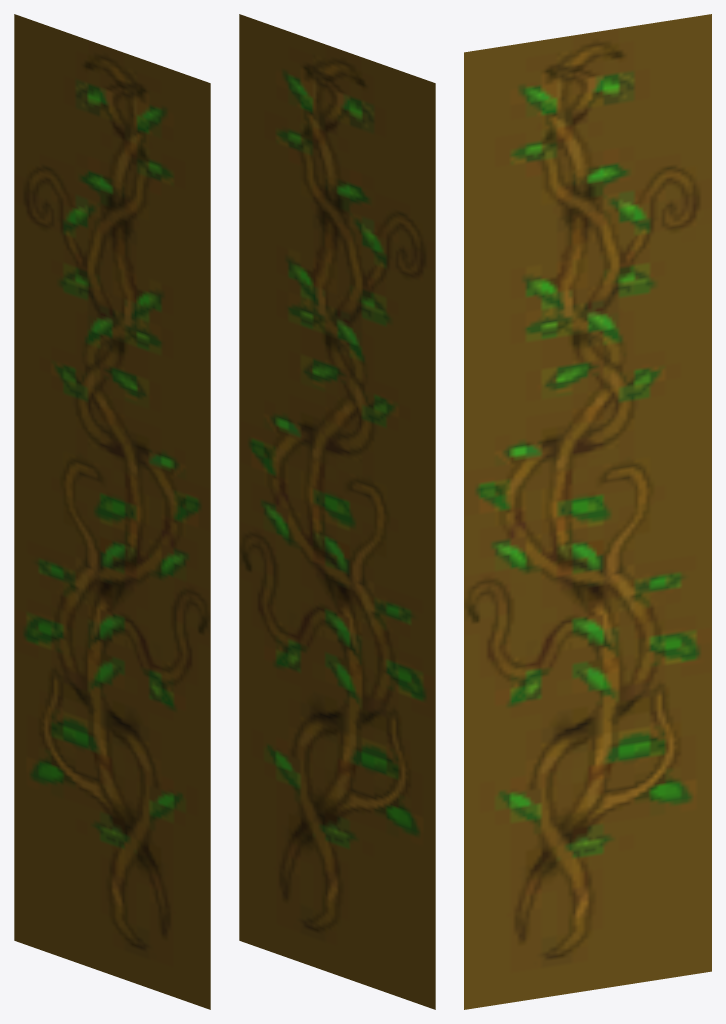
File: EKH_GROTTO_PS_GR_PLANE276.fbx
The picture shows the model from 3 angles, left to right: view 1: azimuth 30°, elevation 25°; view 2: azimuth 210°, elevation 25°; view 3: azimuth 270°, elevation 25°; orthographic projection. The views are drawn at different scales.
Visible parts, largest first — view 1: EKH_GROTTO_PS_GR_PLANE276; view 2: EKH_GROTTO_PS_GR_PLANE276; view 3: EKH_GROTTO_PS_GR_PLANE276.
Part boxes in pixels (x1,y1,x2,y2): EKH_GROTTO_PS_GR_PLANE276: (14, 14, 210, 1009); EKH_GROTTO_PS_GR_PLANE276: (239, 14, 435, 1009); EKH_GROTTO_PS_GR_PLANE276: (464, 14, 711, 1009).
Size of the model in its own units: 2375 by 27592 by 6476.
Materials: 1 (1 with a texture image).
